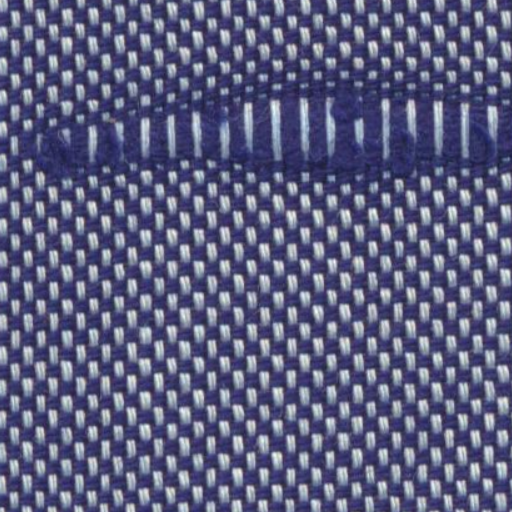DaiSha: (48, 78, 508, 199)
